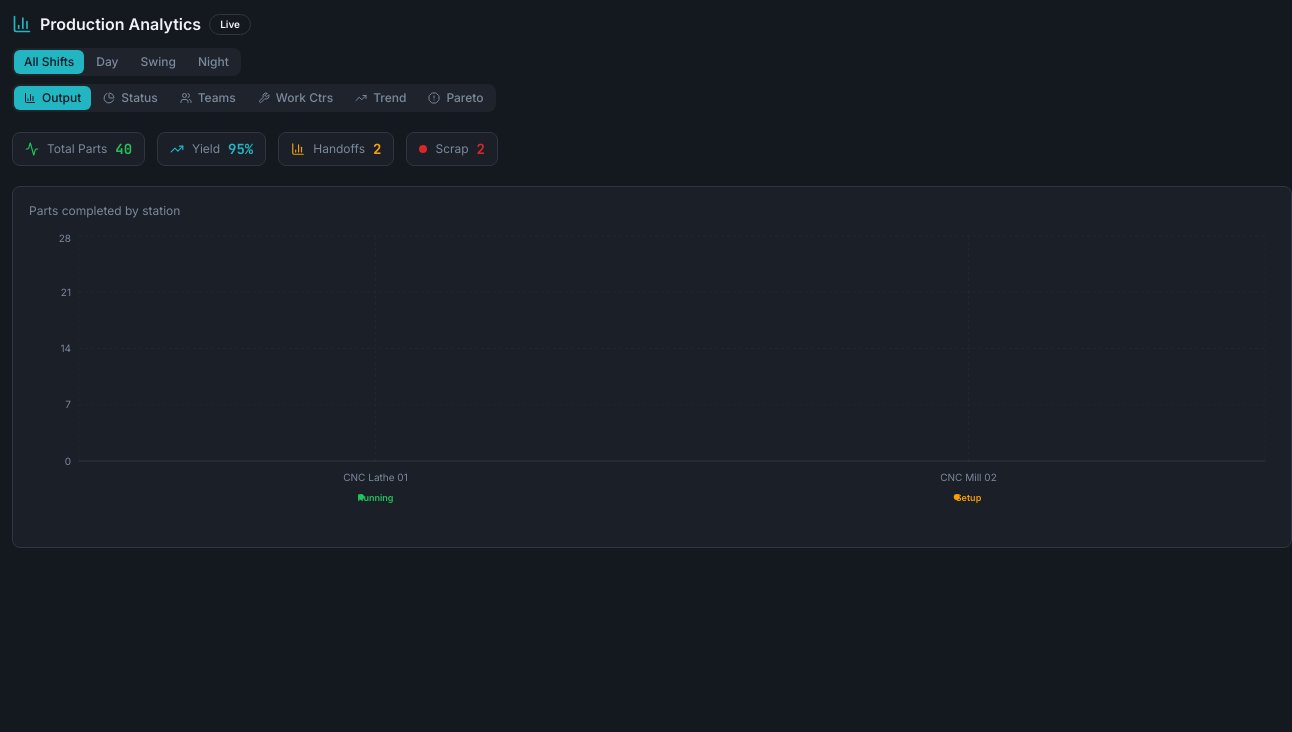
Test: ProductionAnalytics › filters trend data to today only
This screenshot has width=1292, height=732.
Click the button "Trend".
click(381, 98)  # box [345,86,416,110]
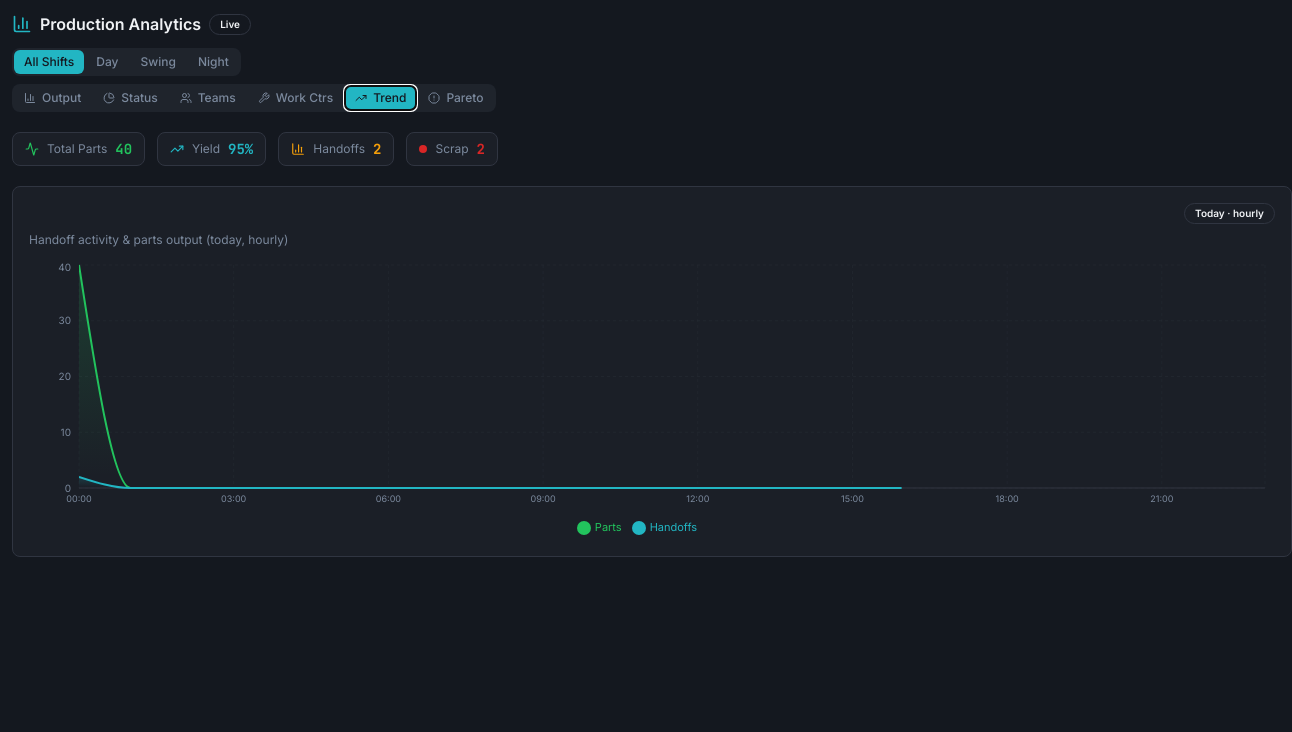
Expected: the text "Today · hourly" is shown, [1184,203,1275,224]
